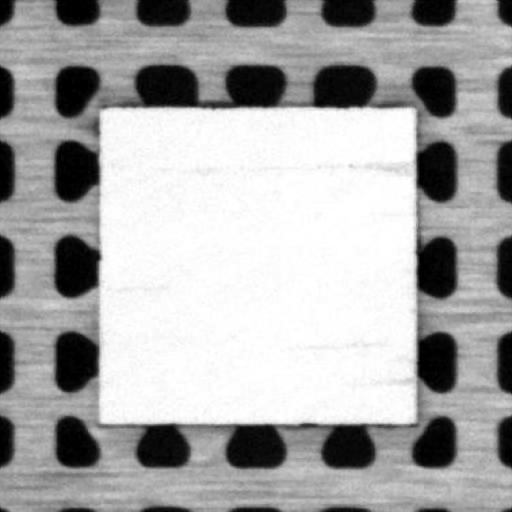DIE_INK: (348, 155, 412, 173)
